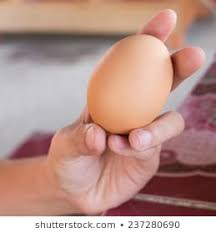egg: (88, 35, 174, 133)
